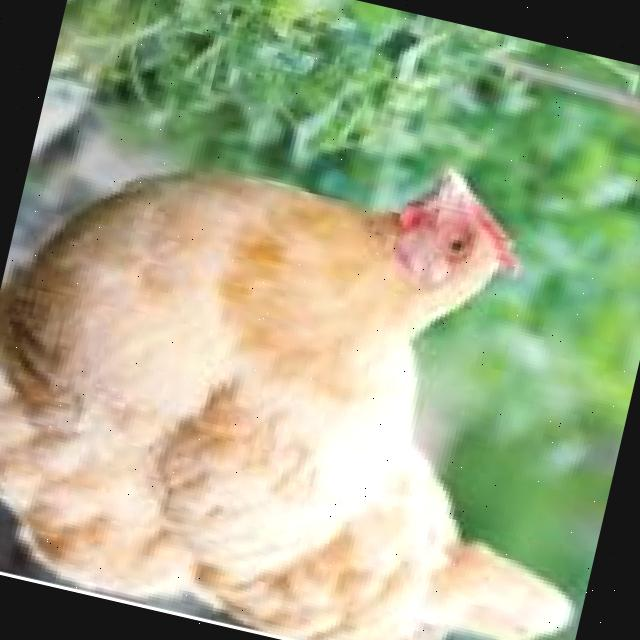Healthy: (0, 73, 640, 640)
